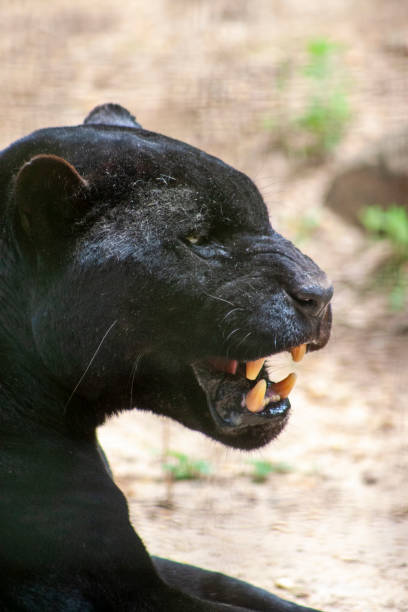panther: (7, 100, 385, 490)
